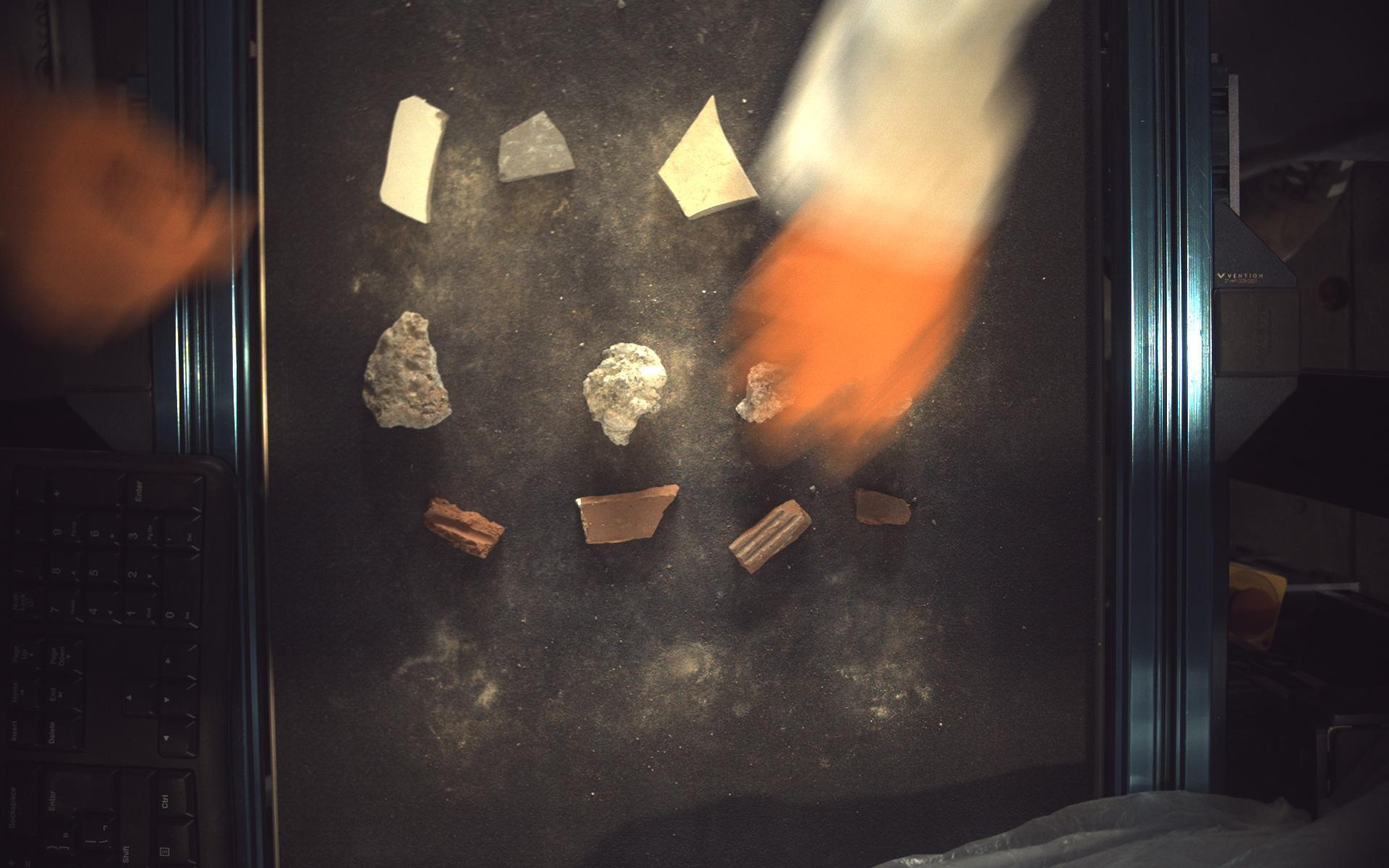brick: (577, 485, 679, 545), (731, 501, 812, 574), (424, 499, 504, 559), (857, 489, 917, 526)
concrete: (362, 311, 452, 429), (584, 343, 668, 446)
tile: (660, 94, 760, 219), (380, 94, 449, 223), (498, 111, 575, 182)
